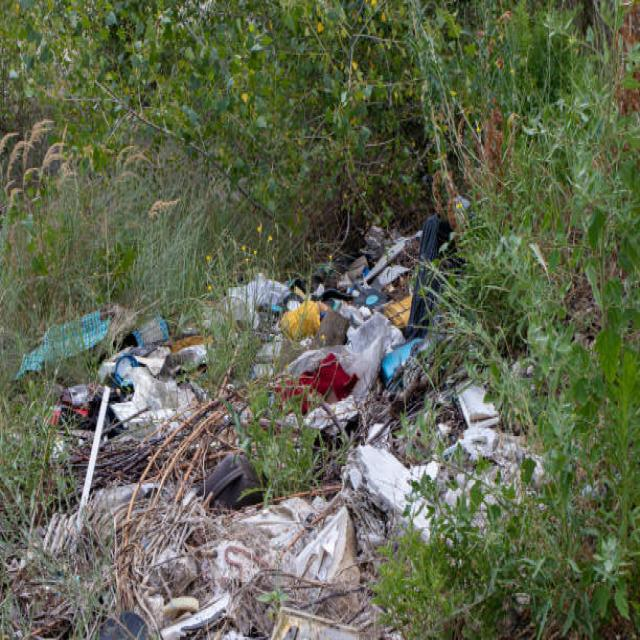plastic: (52, 300, 479, 446)
